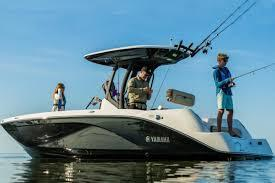fishing boat: (1, 36, 275, 162)
